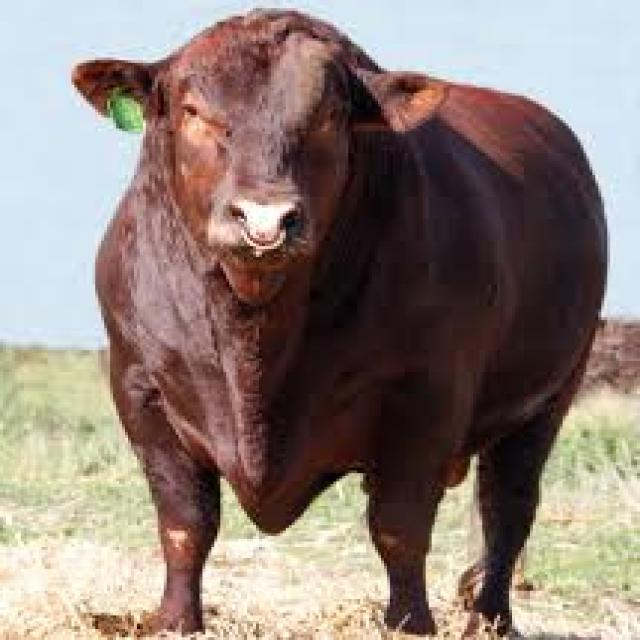cowFace: (50, 14, 452, 306)
